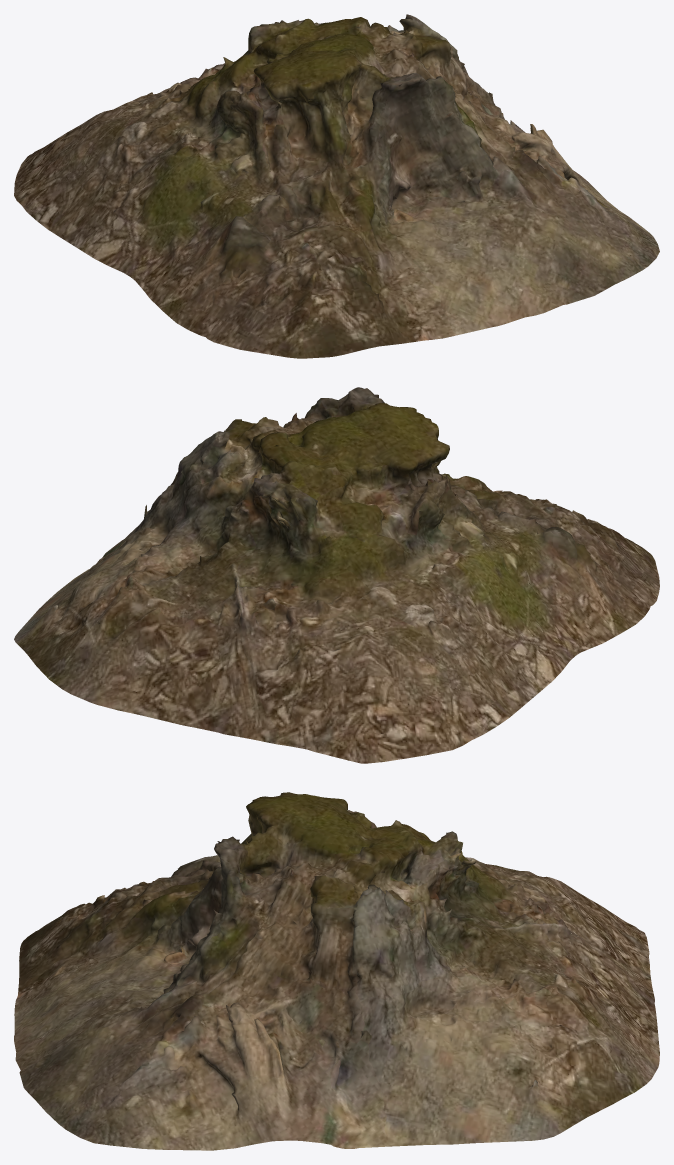
File: tree_stump_01.glb
The picture shows the model from 3 angles, top to bottom: view 1: azimuth 30°, elevation 25°; view 2: azimuth 150°, elevation 25°; view 3: azimuth 270°, elevation 25°; orthographic projection. The views are drawn at different scales.
Parts seen in each view (by area): view 1: tree_stump_01; view 2: tree_stump_01; view 3: tree_stump_01.
Part boxes in pixels (x1=…): tree_stump_01: x1=14, y1=14, x2=659, y2=358; tree_stump_01: x1=14, y1=387, x2=659, y2=763; tree_stump_01: x1=14, y1=792, x2=659, y2=1150.
Bounding box in the file's own units: 1.43 × 0.5725 × 1.59.
1 material, 1 textured.
